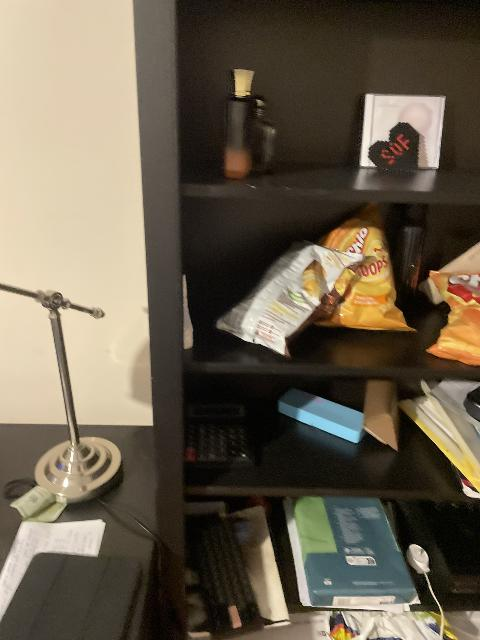Chio Cascaval 125g: (419, 271, 480, 365)
Chio Hula Hoops Cheese 70g: (318, 204, 416, 331)
Lays Beef Grilled Ribs 125g: (215, 238, 365, 356)
